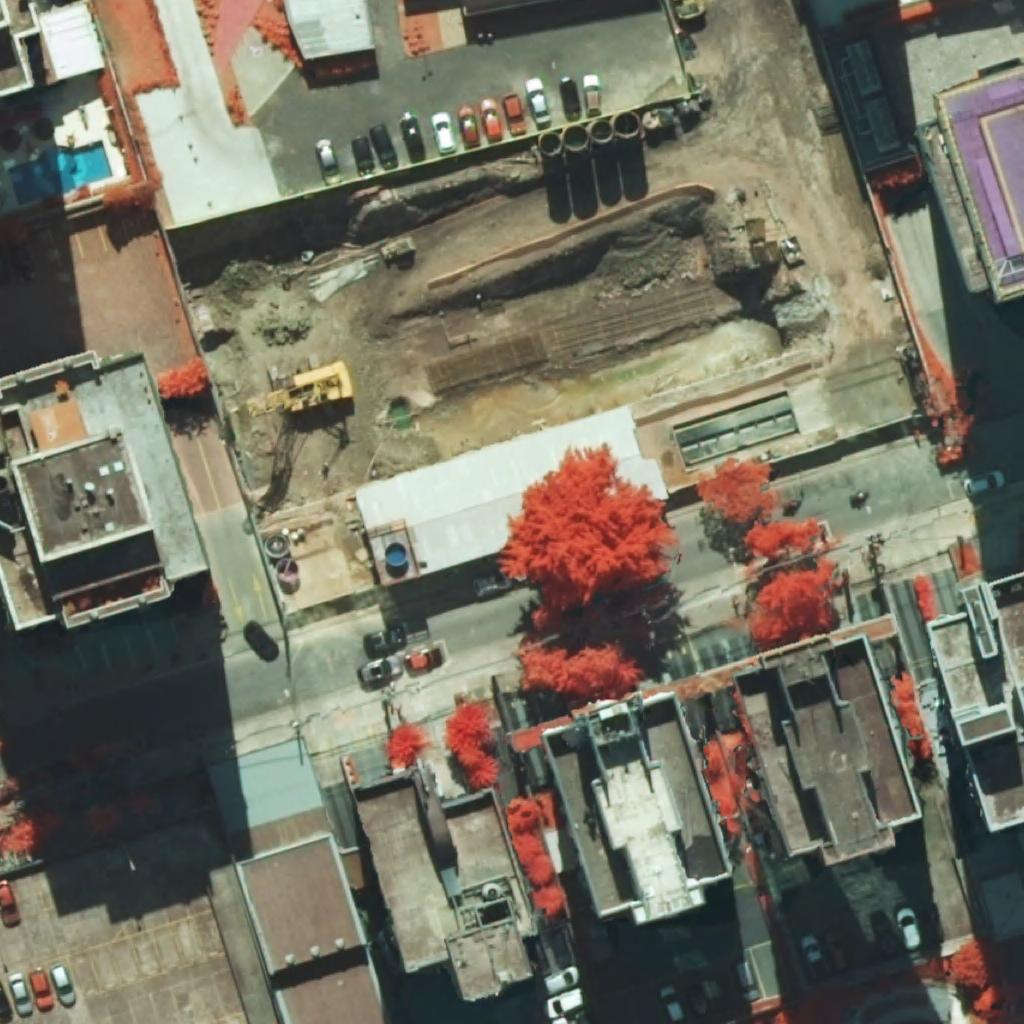pool: (7, 140, 112, 205)
